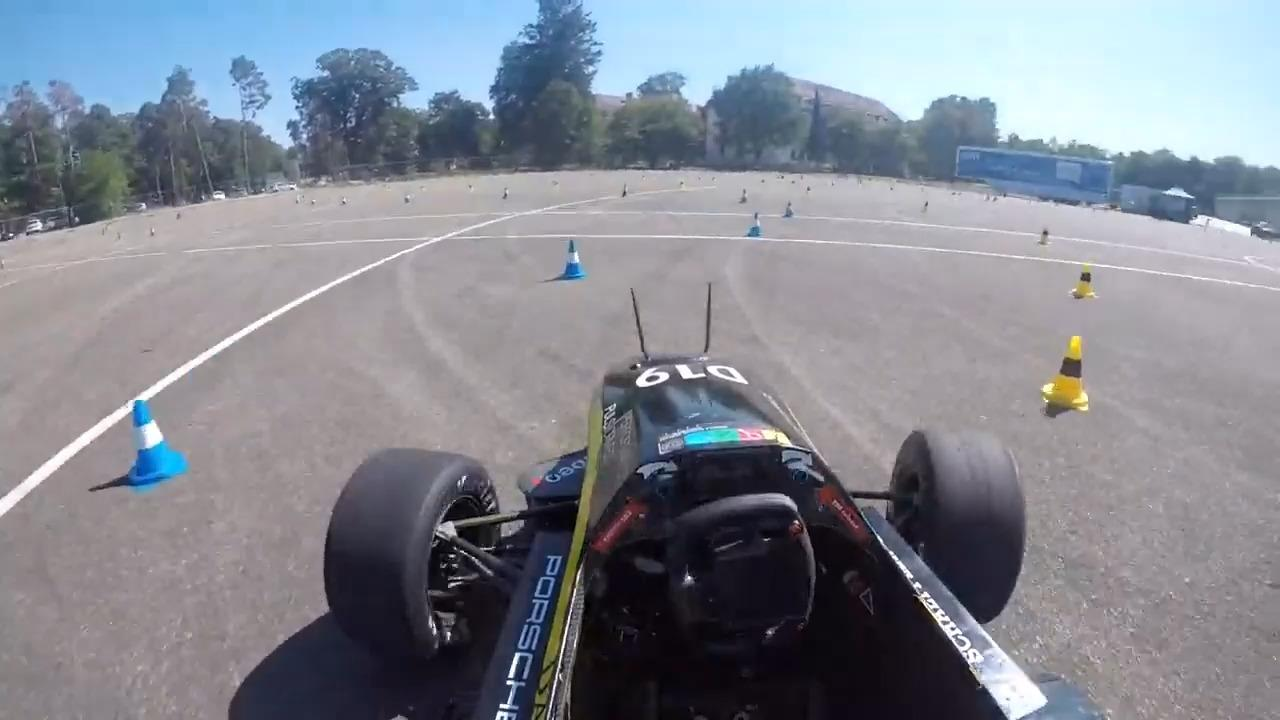blue_cone: (120, 385, 181, 487), (556, 237, 584, 281), (747, 210, 761, 238), (738, 186, 749, 205), (783, 199, 793, 219)
yellow_cone: (1042, 325, 1093, 413), (1072, 261, 1099, 300), (1039, 226, 1051, 246)
